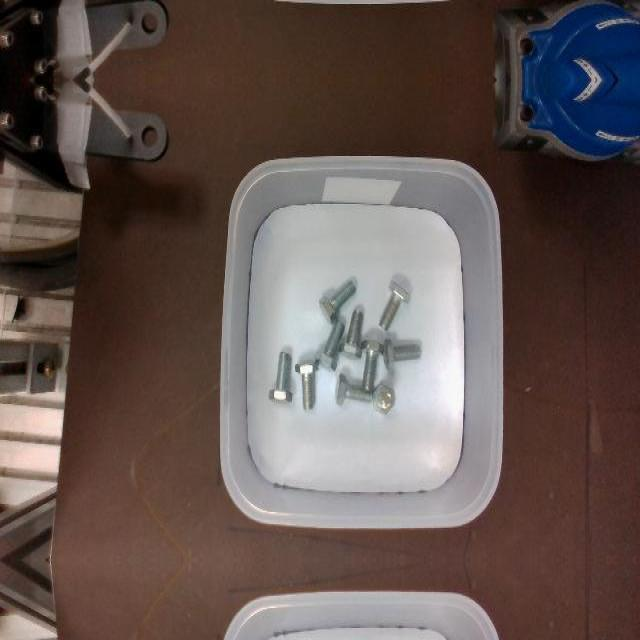screw: (379, 281, 411, 331), (319, 281, 355, 325), (314, 320, 344, 370), (336, 373, 373, 407), (382, 339, 420, 371), (339, 308, 363, 358), (360, 339, 382, 393), (269, 352, 292, 402), (296, 360, 319, 410), (372, 382, 394, 414)
